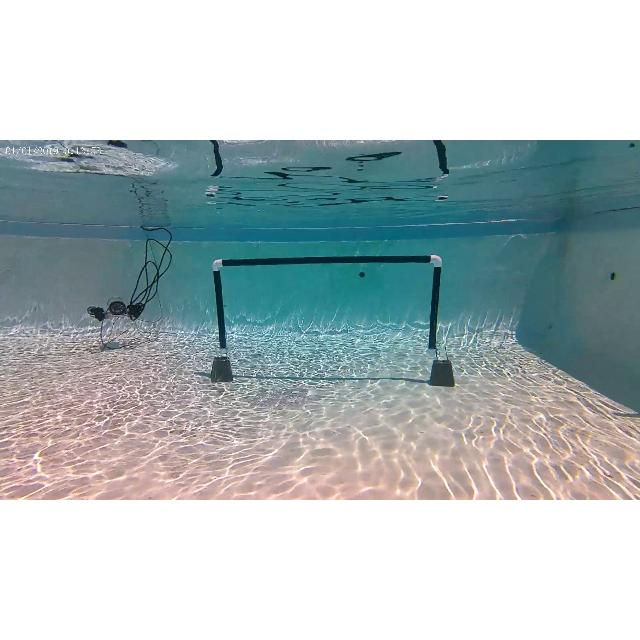prequal gate: (214, 255, 442, 353)
prequal gate leg l: (208, 252, 236, 360)
prequal gate leg r: (421, 254, 449, 356)
